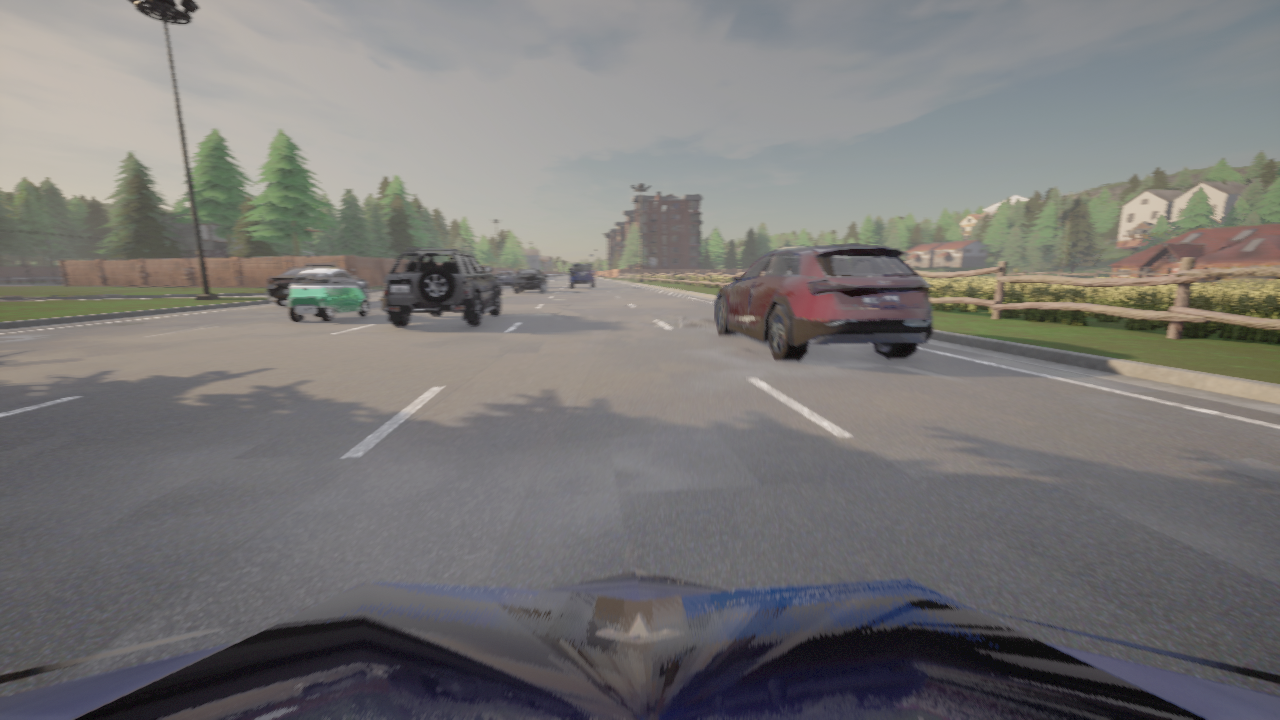cyclist: (0, 569, 1279, 719), (715, 244, 932, 360), (380, 248, 501, 326), (288, 268, 368, 322), (267, 264, 368, 306), (514, 269, 547, 292), (569, 264, 595, 287), (496, 271, 514, 287)
